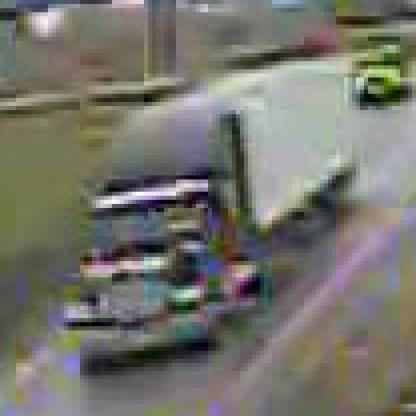container: (73, 58, 361, 356)
